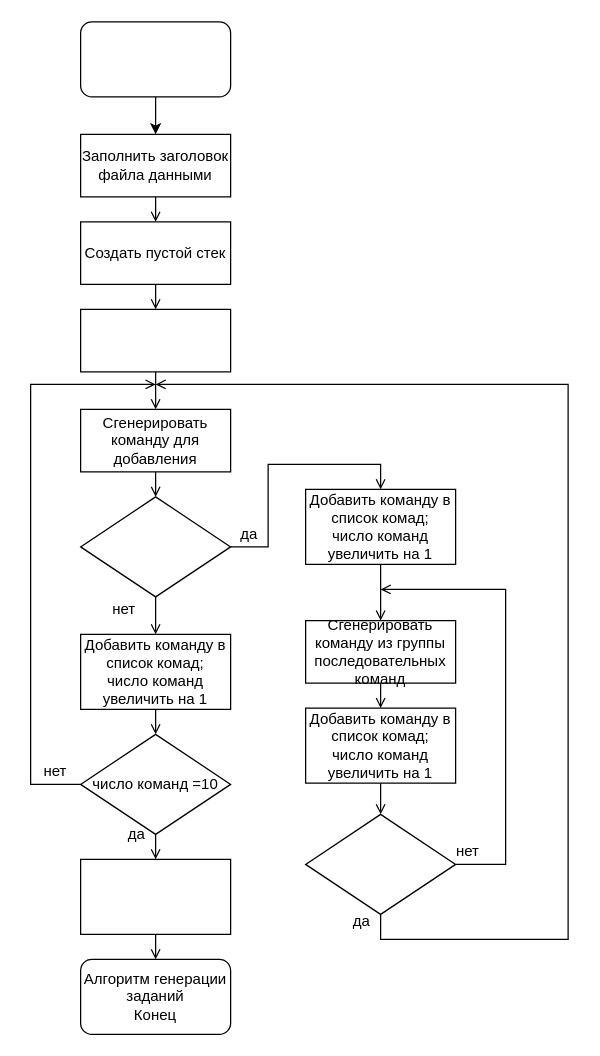
This 600x1056 diagram has some shape labels left out. The centre of each missing label's shape, as x and y in pixels:
Алгоритм генерации заданий Начало: (155,59)
записать полученные данные в файл: (155,896)
Команда условная: (155,546)
Создать пустой список команд: (155,340)
число команд =3: (380,863)
